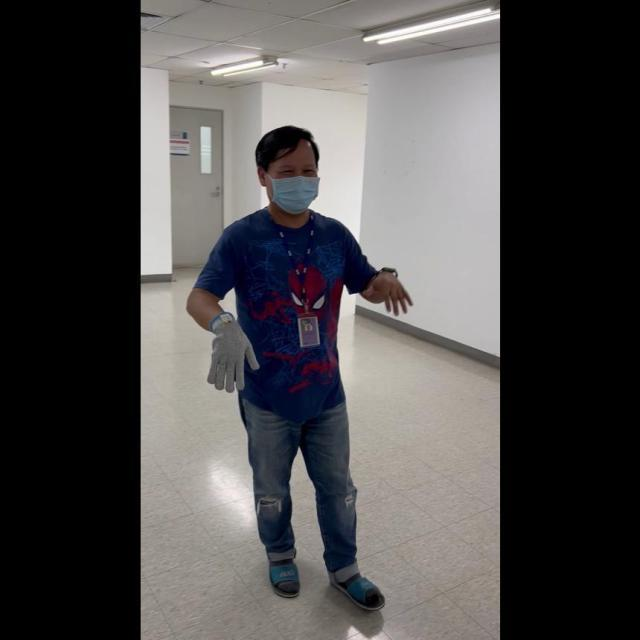bare_hand: (361, 266, 412, 318)
gloved_hand: (204, 310, 259, 391)
